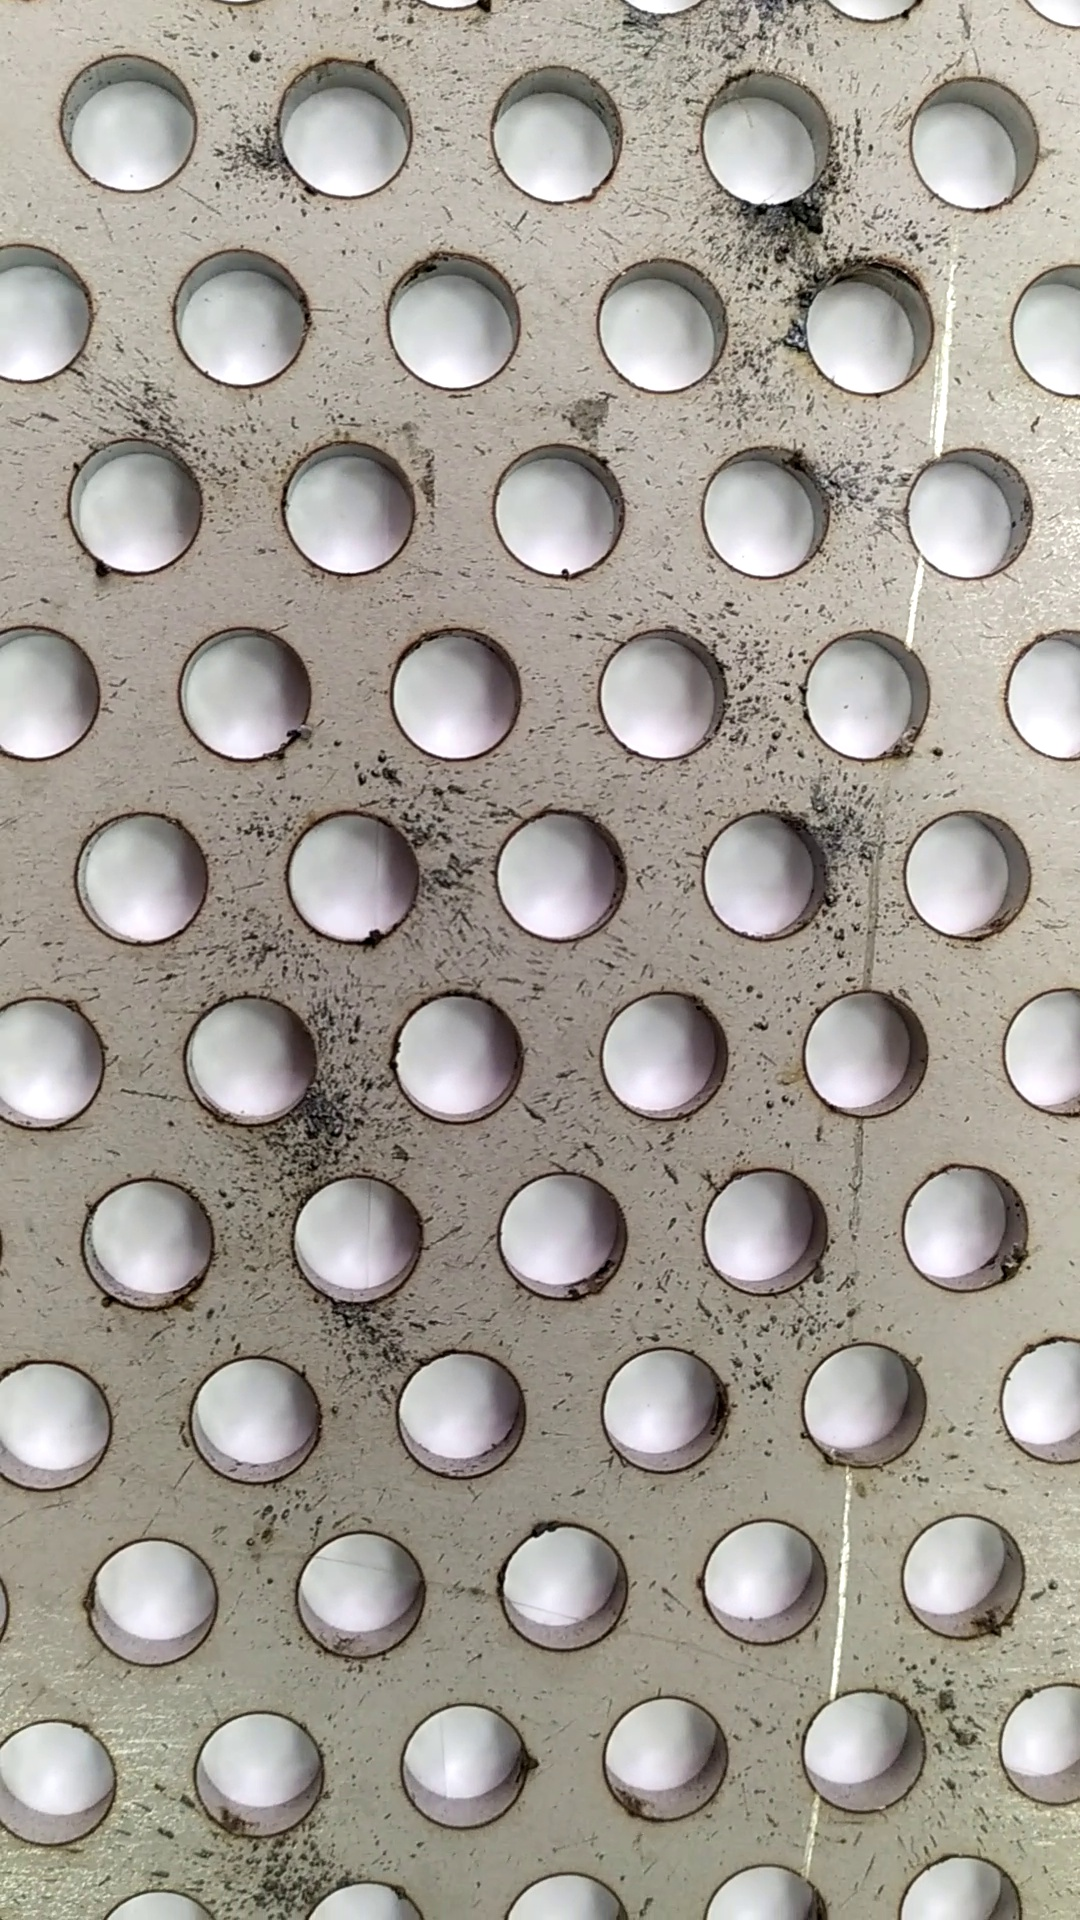Hole: (258, 44, 426, 207), (377, 1336, 551, 1489), (175, 1344, 345, 1491), (684, 61, 847, 215), (45, 44, 204, 199), (71, 1168, 232, 1323), (378, 981, 541, 1131), (265, 433, 429, 582), (61, 803, 224, 952), (160, 243, 328, 386), (899, 65, 1055, 220), (477, 50, 630, 207), (183, 1701, 347, 1847), (477, 1513, 644, 1656), (169, 982, 324, 1135), (585, 1332, 738, 1487), (281, 1520, 444, 1665), (373, 247, 527, 400), (389, 1695, 551, 1838), (55, 429, 214, 575), (684, 1158, 845, 1302), (793, 1328, 947, 1477), (479, 800, 634, 948), (167, 618, 316, 771), (591, 1683, 738, 1834), (585, 620, 738, 766), (793, 975, 938, 1127), (285, 1170, 438, 1315), (585, 252, 731, 404), (692, 442, 845, 585), (887, 1501, 1040, 1644), (483, 440, 636, 583), (79, 1528, 232, 1671), (891, 1149, 1036, 1298), (587, 978, 732, 1126), (483, 1164, 634, 1305), (381, 626, 527, 771), (691, 804, 843, 944), (281, 803, 429, 945), (796, 618, 934, 771), (791, 1677, 938, 1820), (895, 803, 1038, 948), (688, 1511, 836, 1650), (899, 440, 1034, 589), (804, 255, 938, 405)
